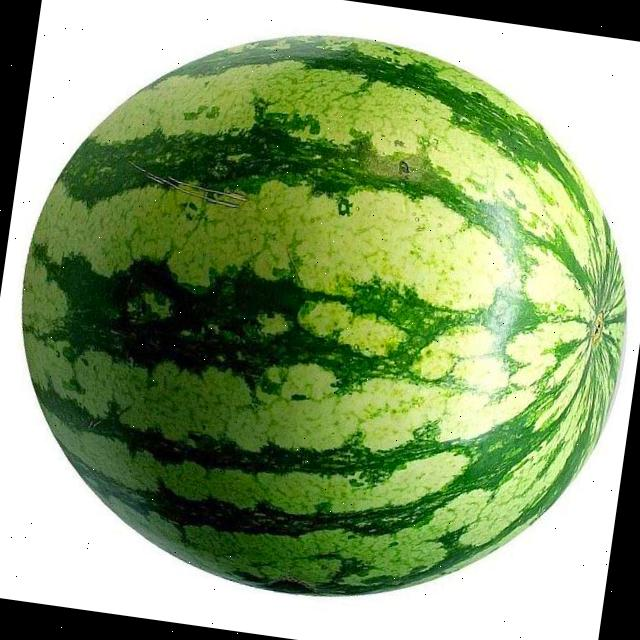watermelon: (0, 0, 640, 617)
